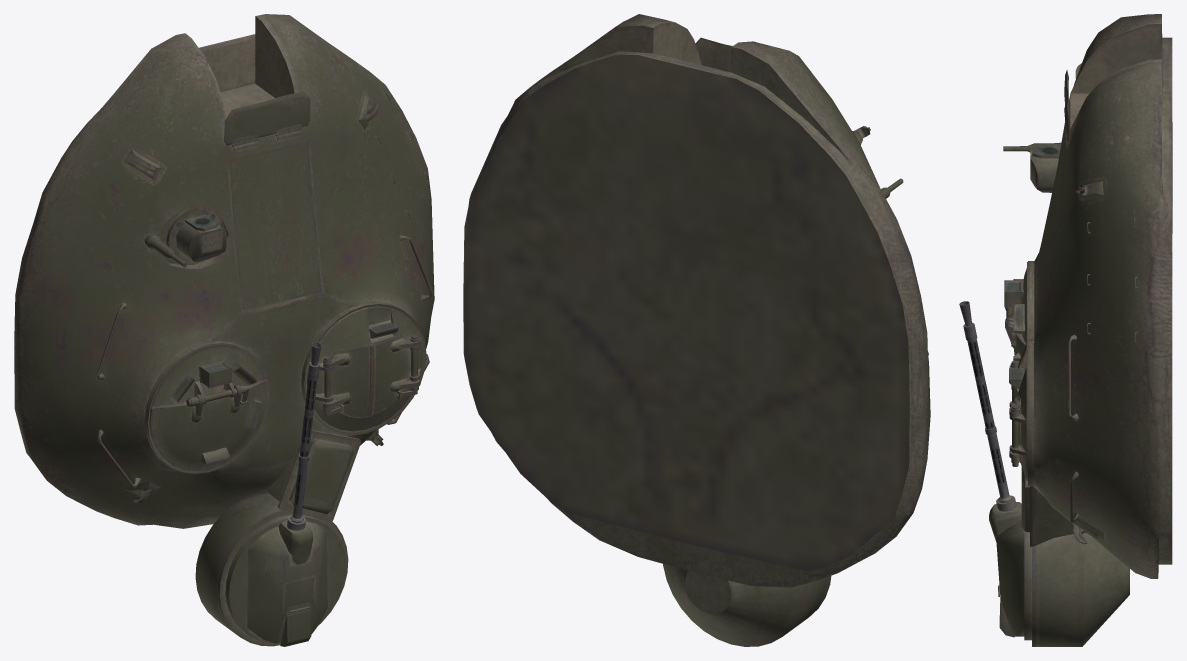
Rendered from Turret_01.glb.
3 views of the same model, side by side, from view 1: azimuth 30°, elevation 25°; view 2: azimuth 150°, elevation 25°; view 3: azimuth 270°, elevation 25° (orthographic). The views are drawn at different scales.
Parts seen in each view (by area): view 1: set_0_group_0; view 2: set_0_group_0; view 3: set_0_group_0.
Part boxes in pixels (x1=…): set_0_group_0: x1=14, y1=14, x2=434, y2=646; set_0_group_0: x1=463, y1=14, x2=930, y2=646; set_0_group_0: x1=959, y1=14, x2=1172, y2=646.
Bounding box in the file's own units: 2.72 × 3.63 × 1.17.
Materials: 1 (1 with a texture image).
